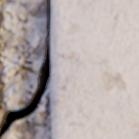brick: (51, 0, 138, 138)
crack: (0, 0, 51, 137)
